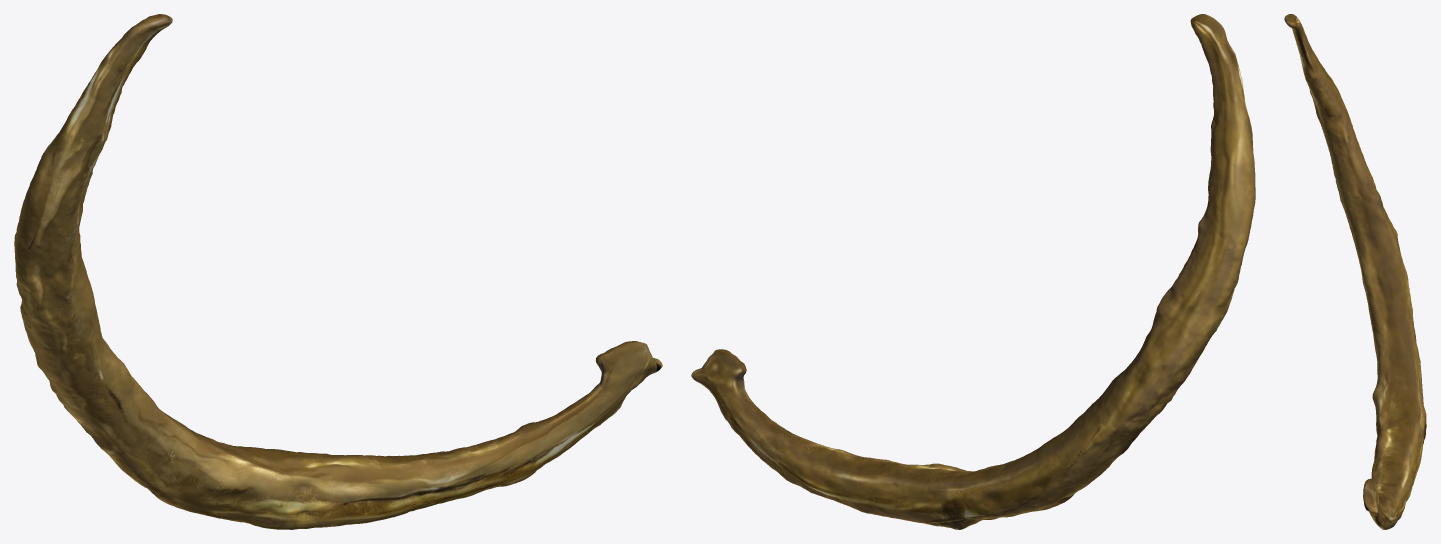
The model's file is necator-americanus_A.glb.
3 views of the same model, side by side, from view 1: azimuth 30°, elevation 25°; view 2: azimuth 150°, elevation 25°; view 3: azimuth 270°, elevation 25° (orthographic). The views are drawn at different scales.
Parts seen in each view (by area): view 1: Cuerpo_mesh, Cabeza_mesh; view 2: Cuerpo_mesh, Cabeza_mesh; view 3: Cuerpo_mesh, Cabeza_mesh.
Boxes of the visible parts, box(x1,y1,x2,y2) form: Cuerpo_mesh: box(14, 14, 625, 529); Cabeza_mesh: box(595, 341, 662, 398); Cuerpo_mesh: box(717, 14, 1255, 529); Cabeza_mesh: box(691, 349, 746, 400); Cuerpo_mesh: box(1284, 14, 1426, 529); Cabeza_mesh: box(1363, 478, 1381, 516).
Bounding box in the file's own units: 1.55 × 1.4 × 0.4697.
Materials: 1 (1 with a texture image).
